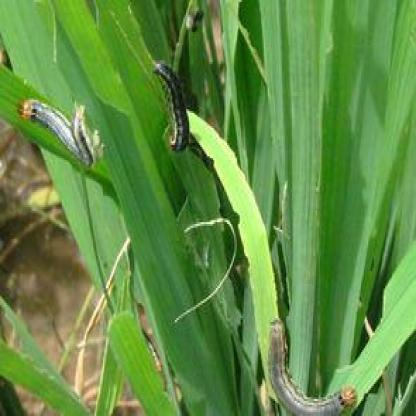armyworm: (264, 313, 361, 416), (15, 95, 94, 155), (152, 55, 192, 158), (72, 104, 97, 176)
